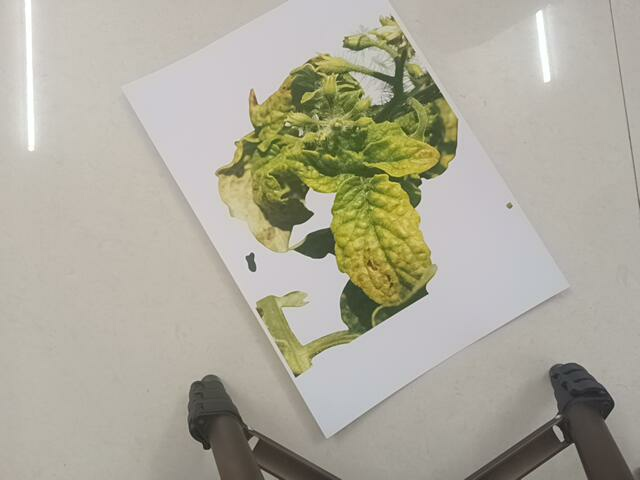Tomamto_Leaf_curl_virus: (210, 20, 480, 374)
